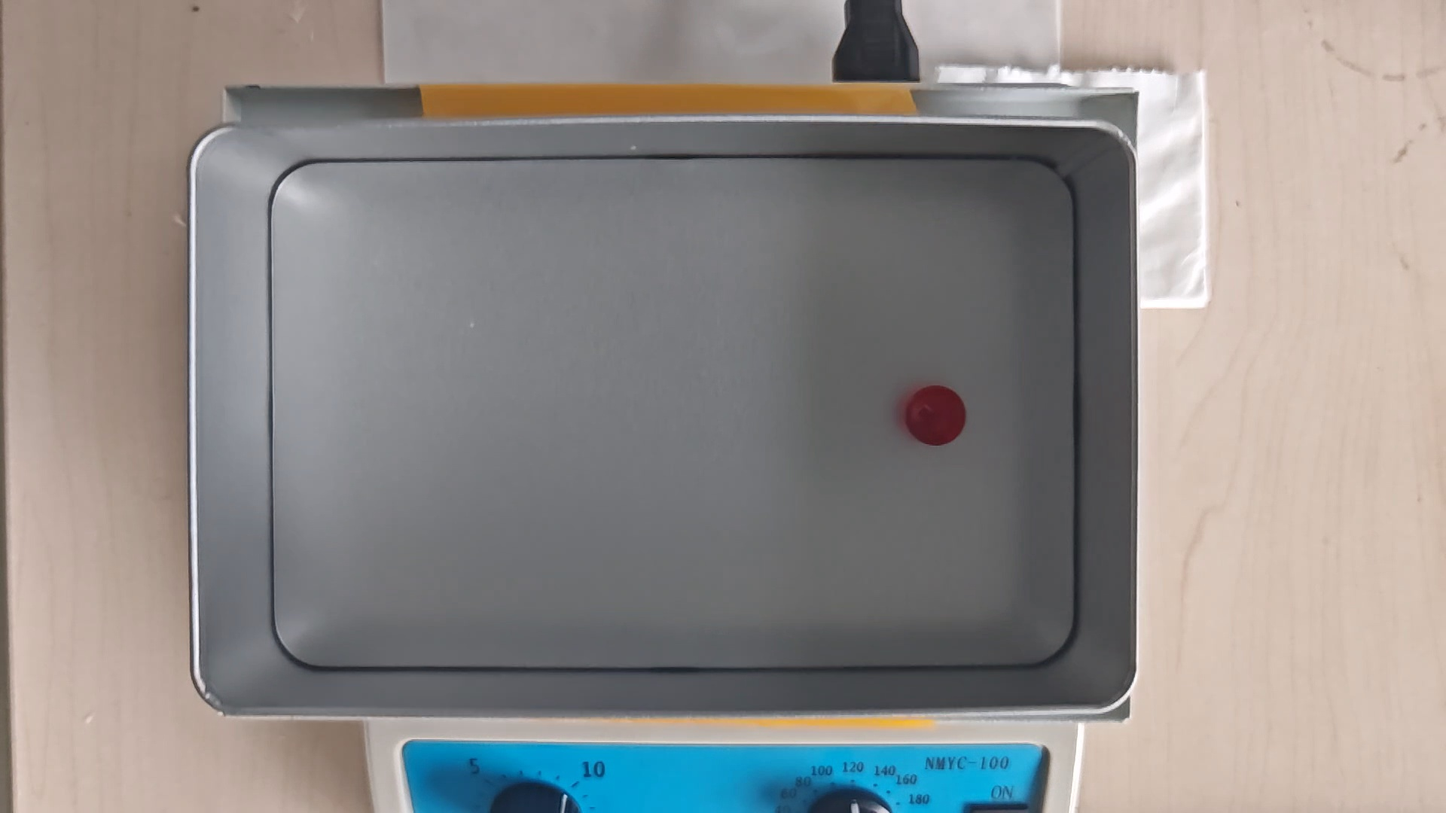ball: (905, 383, 969, 448)
container: (267, 157, 1081, 669)
